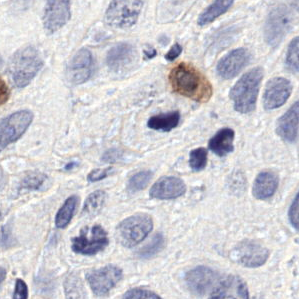Lymphocyte: (168, 62, 214, 103)
